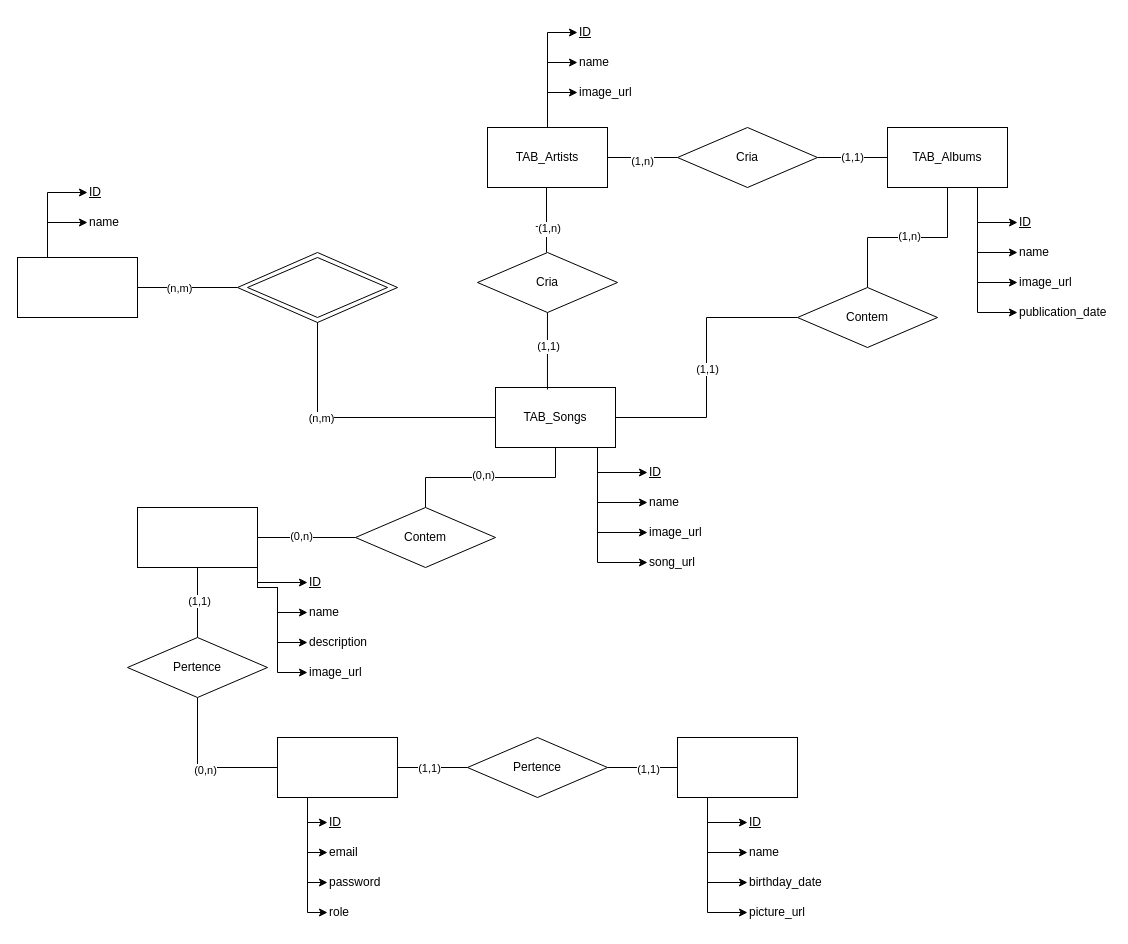
The diagram is 1128 pixels wide and 944 high, and some of its shapes have lost their labels. Each missing label, with the box of its shape:
Faz parte: (246, 256, 388, 318)
TAB_Playlists: (136, 506, 258, 568)
TAB_SongCategories: (16, 256, 138, 318)
TAB_UserProfile: (676, 736, 798, 798)
TAB_Users: (276, 736, 398, 798)
